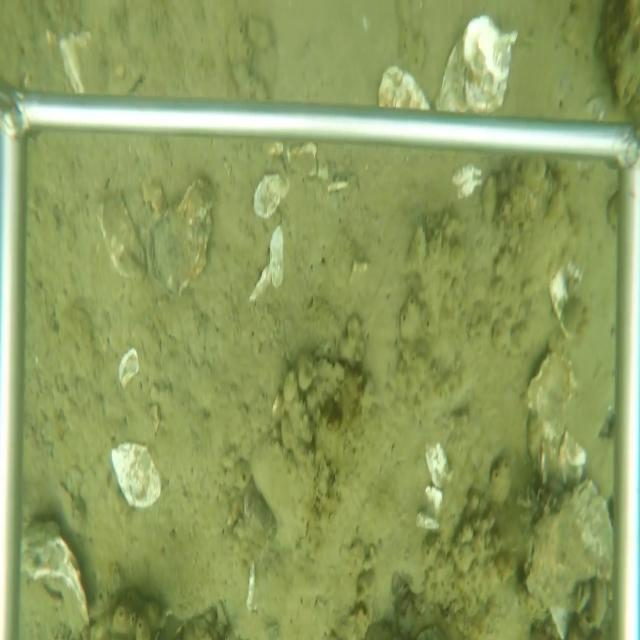Oyster-Closed: (522, 470, 614, 611)
Oyster-Indeterminate: (145, 170, 215, 305)
